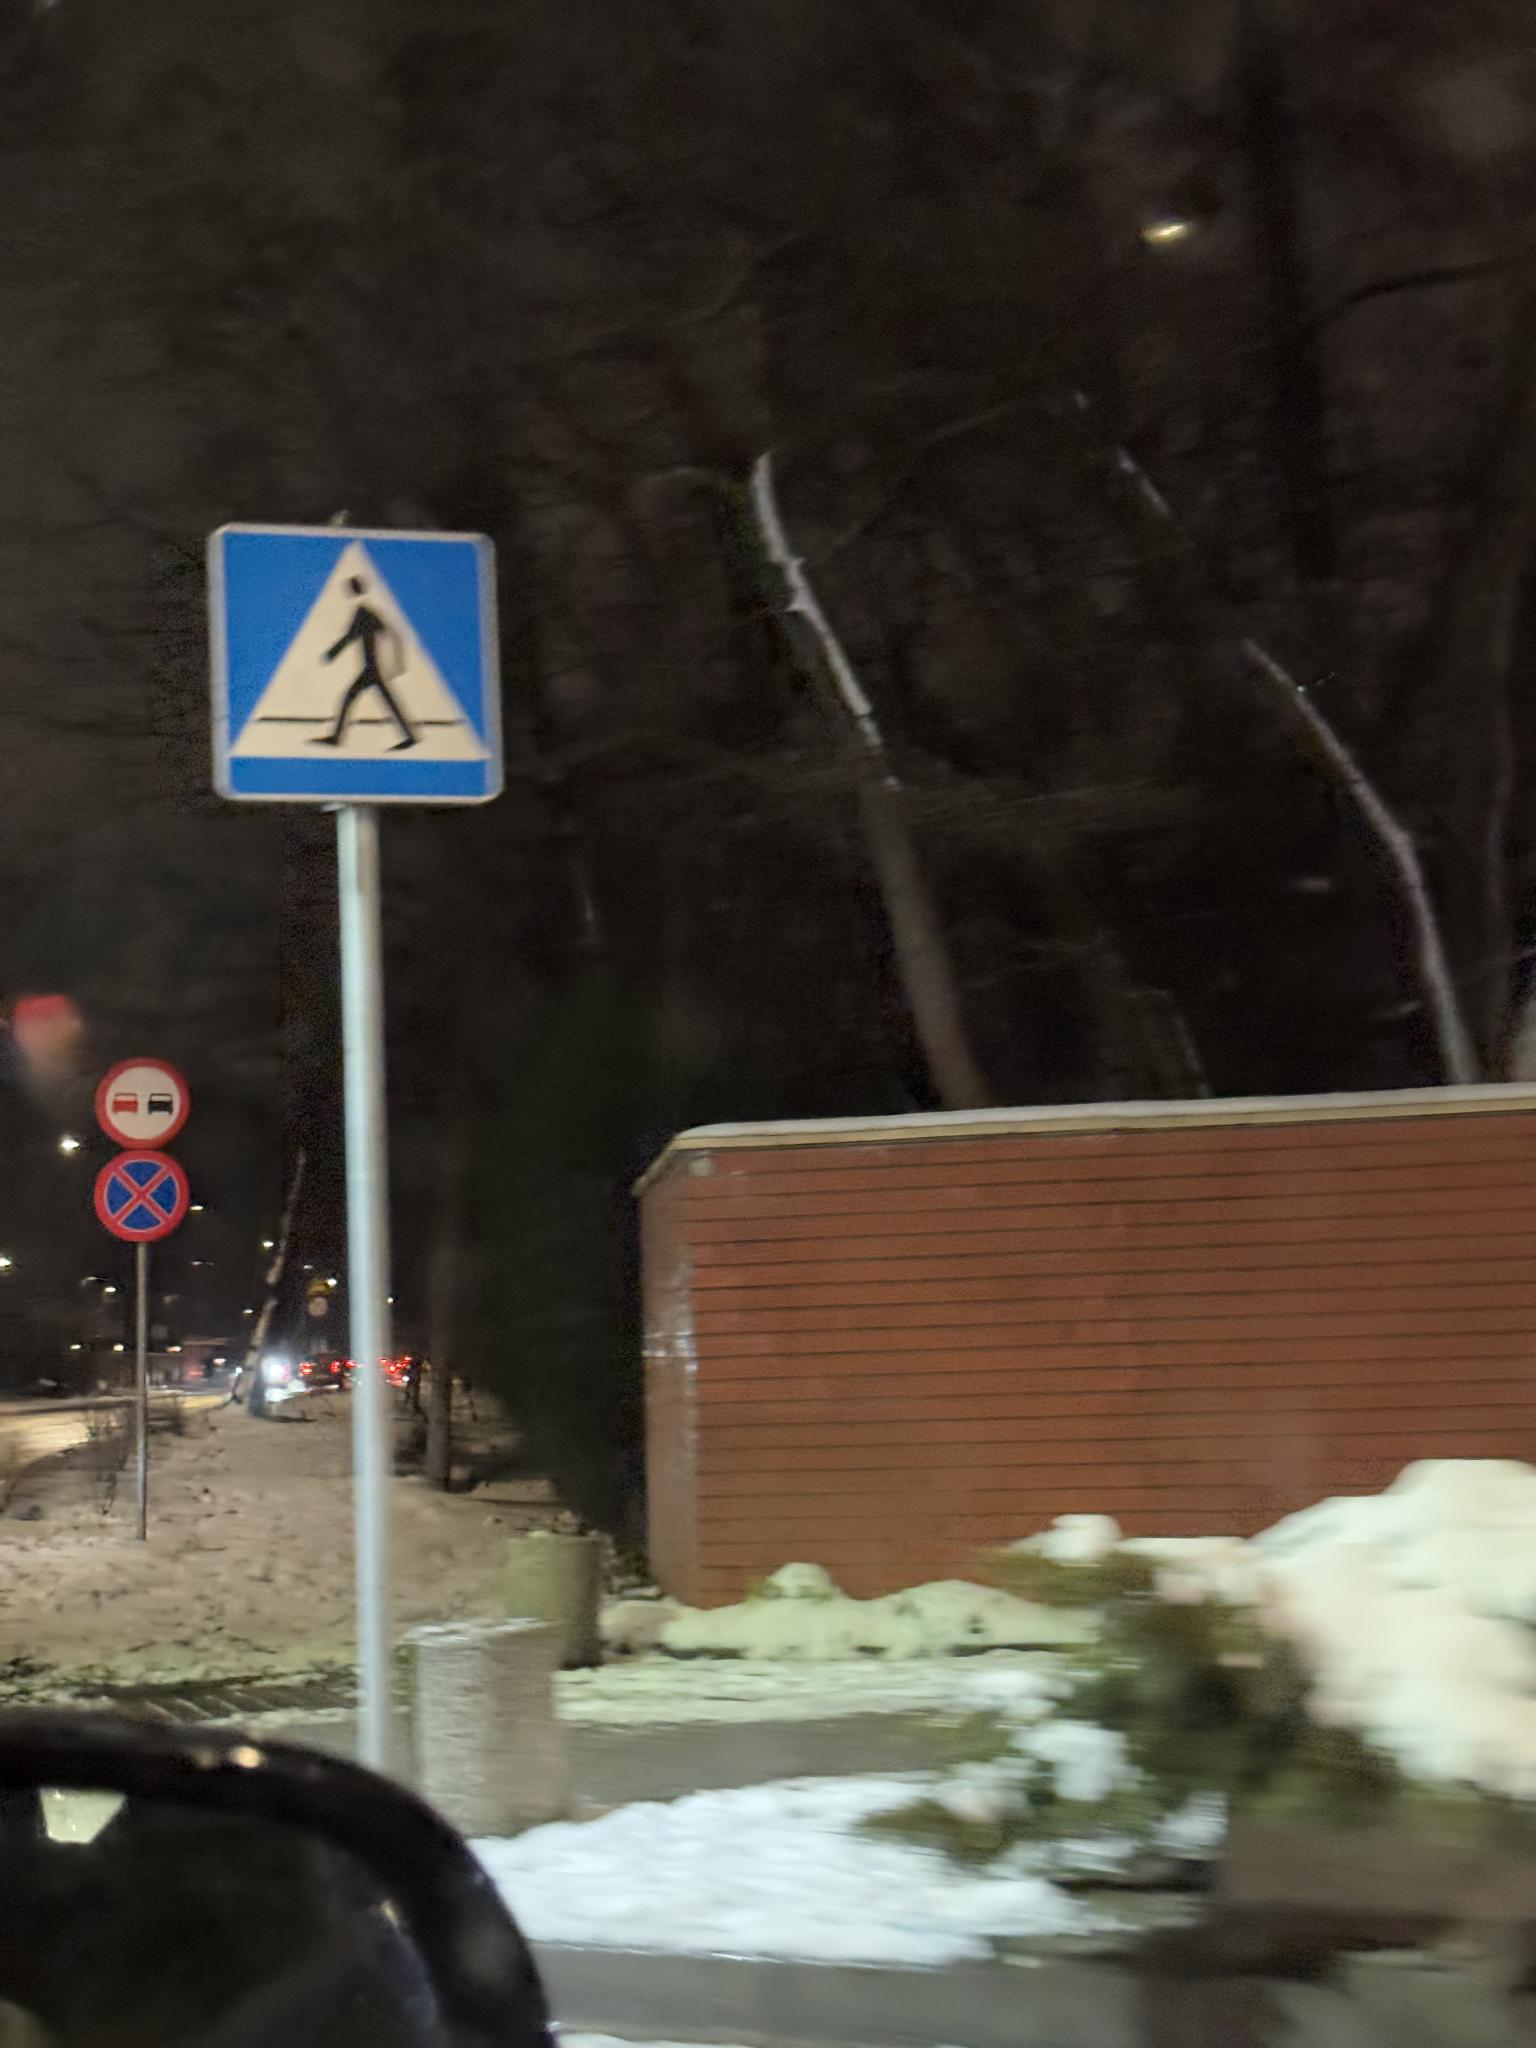information: (208, 519, 505, 808)
prohibitory: (94, 1055, 192, 1151), (92, 1150, 190, 1245), (307, 1297, 329, 1317)
